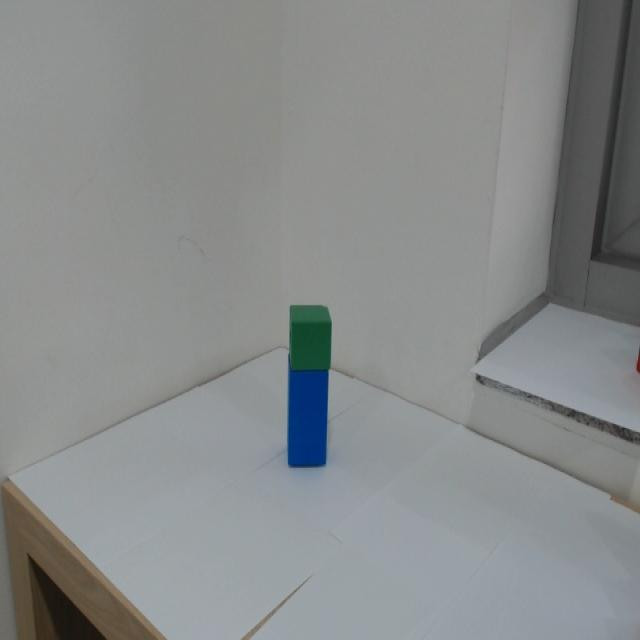cube: (280, 301, 346, 372)
